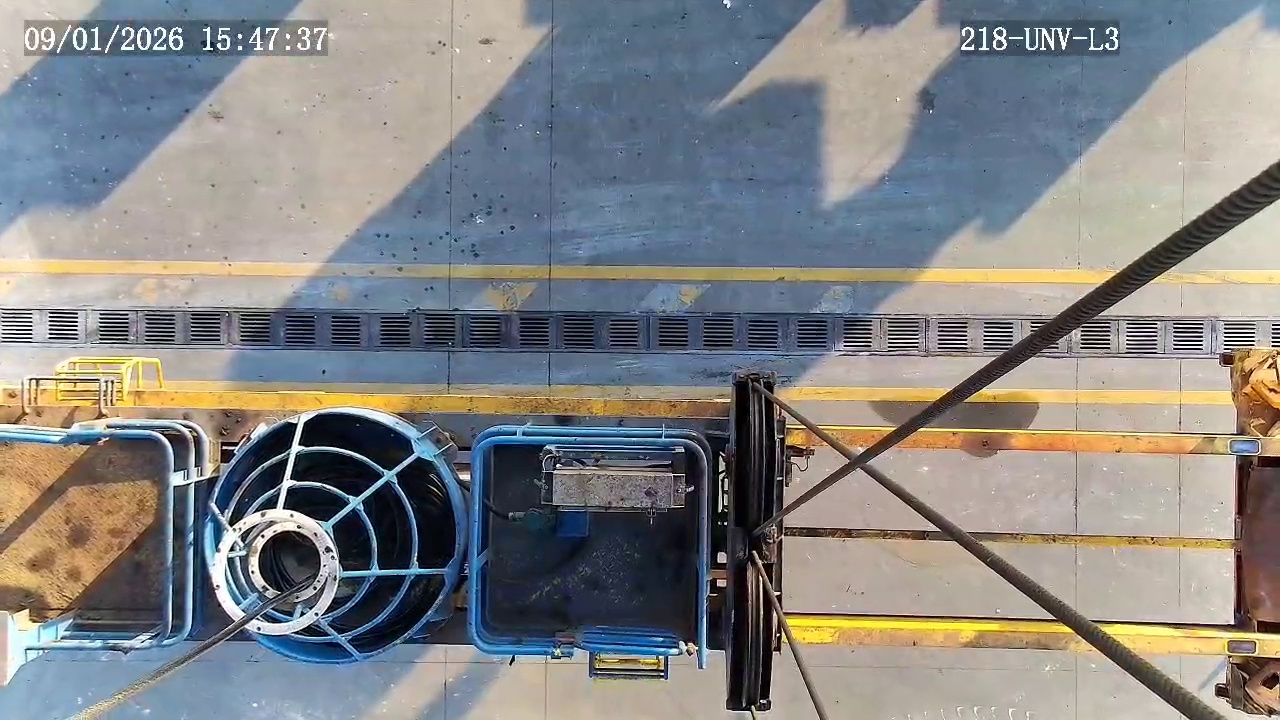right: (211, 509, 339, 636)
